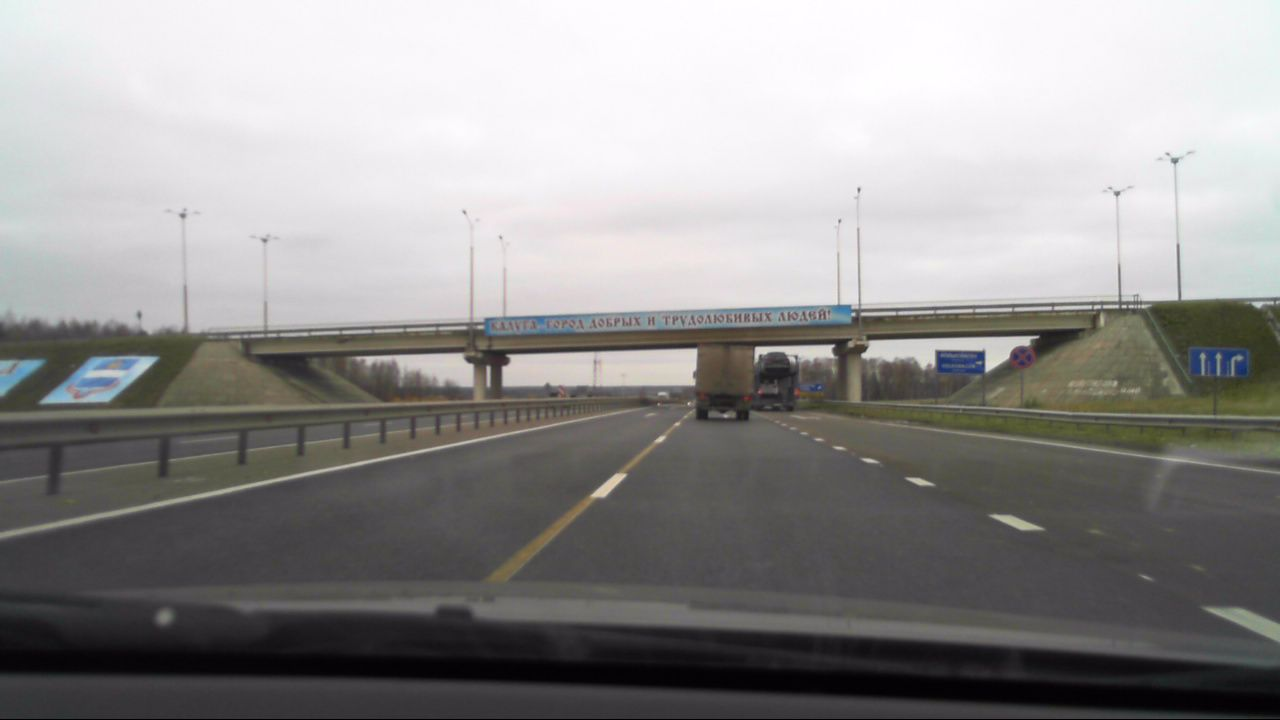No Parking: (1007, 342, 1037, 375)
